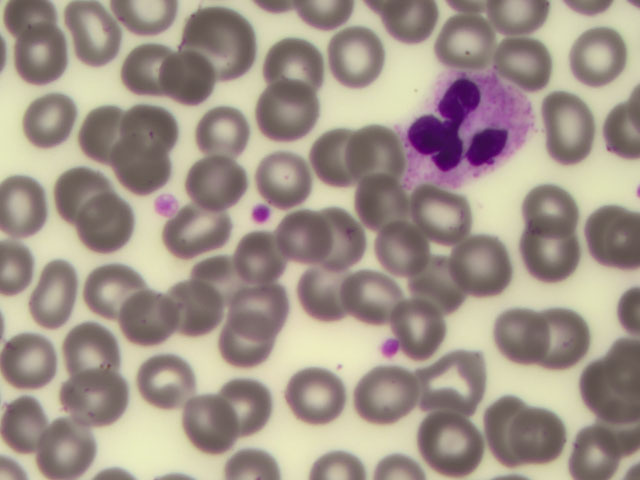Platelets: (148, 191, 177, 216), (247, 202, 272, 222), (380, 338, 398, 358)
RBC: (11, 25, 67, 81), (62, 4, 118, 60), (116, 42, 172, 98), (154, 52, 210, 108), (188, 15, 244, 71), (267, 34, 323, 90), (260, 85, 316, 141), (198, 103, 254, 159), (120, 97, 176, 153), (116, 137, 172, 193), (76, 105, 132, 161), (28, 93, 84, 149), (52, 164, 108, 220), (77, 196, 133, 252), (25, 264, 81, 320), (85, 257, 141, 313), (117, 293, 173, 349), (160, 285, 216, 341), (188, 252, 244, 308), (170, 203, 226, 259), (189, 149, 245, 205), (258, 145, 314, 201), (308, 132, 364, 188), (340, 128, 396, 184), (329, 26, 385, 82), (393, 4, 449, 60), (438, 13, 494, 69), (506, 31, 562, 87), (567, 26, 623, 82), (537, 108, 593, 164), (525, 181, 581, 237), (527, 227, 583, 283), (584, 208, 640, 264), (584, 368, 640, 424), (528, 308, 584, 364), (494, 308, 550, 364), (449, 238, 505, 294), (418, 188, 474, 244), (356, 178, 412, 234), (372, 223, 428, 279), (411, 253, 467, 309), (400, 302, 456, 358), (344, 269, 400, 325), (296, 265, 352, 321), (313, 211, 369, 267), (282, 210, 338, 266), (233, 230, 289, 286), (235, 277, 291, 333), (219, 311, 275, 367), (145, 350, 201, 406), (60, 325, 116, 381), (61, 370, 117, 426), (36, 419, 92, 475), (3, 337, 59, 393), (183, 396, 239, 452), (216, 374, 272, 430), (296, 367, 352, 423), (363, 366, 419, 422), (435, 348, 491, 404), (418, 410, 474, 466), (477, 391, 533, 447), (516, 407, 572, 463), (572, 424, 628, 480), (1, 180, 56, 236), (1, 387, 56, 443), (225, 448, 285, 480)
WBC: (408, 74, 533, 187)
